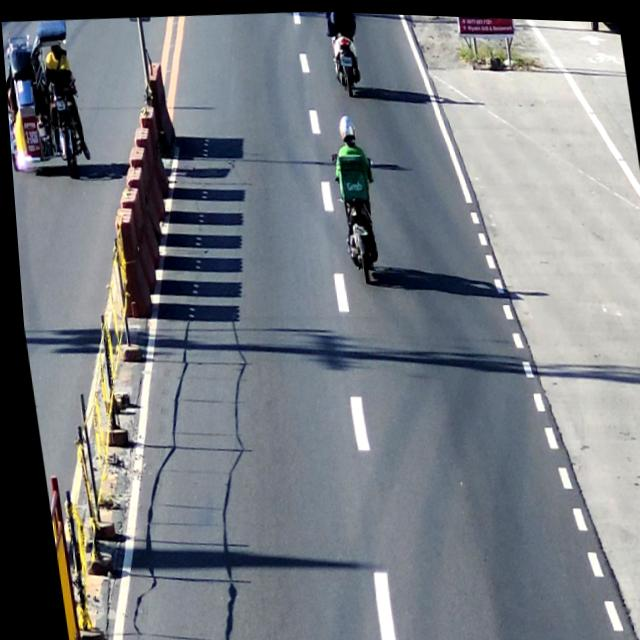Motorcycle: (327, 113, 382, 292), (323, 9, 370, 92)
